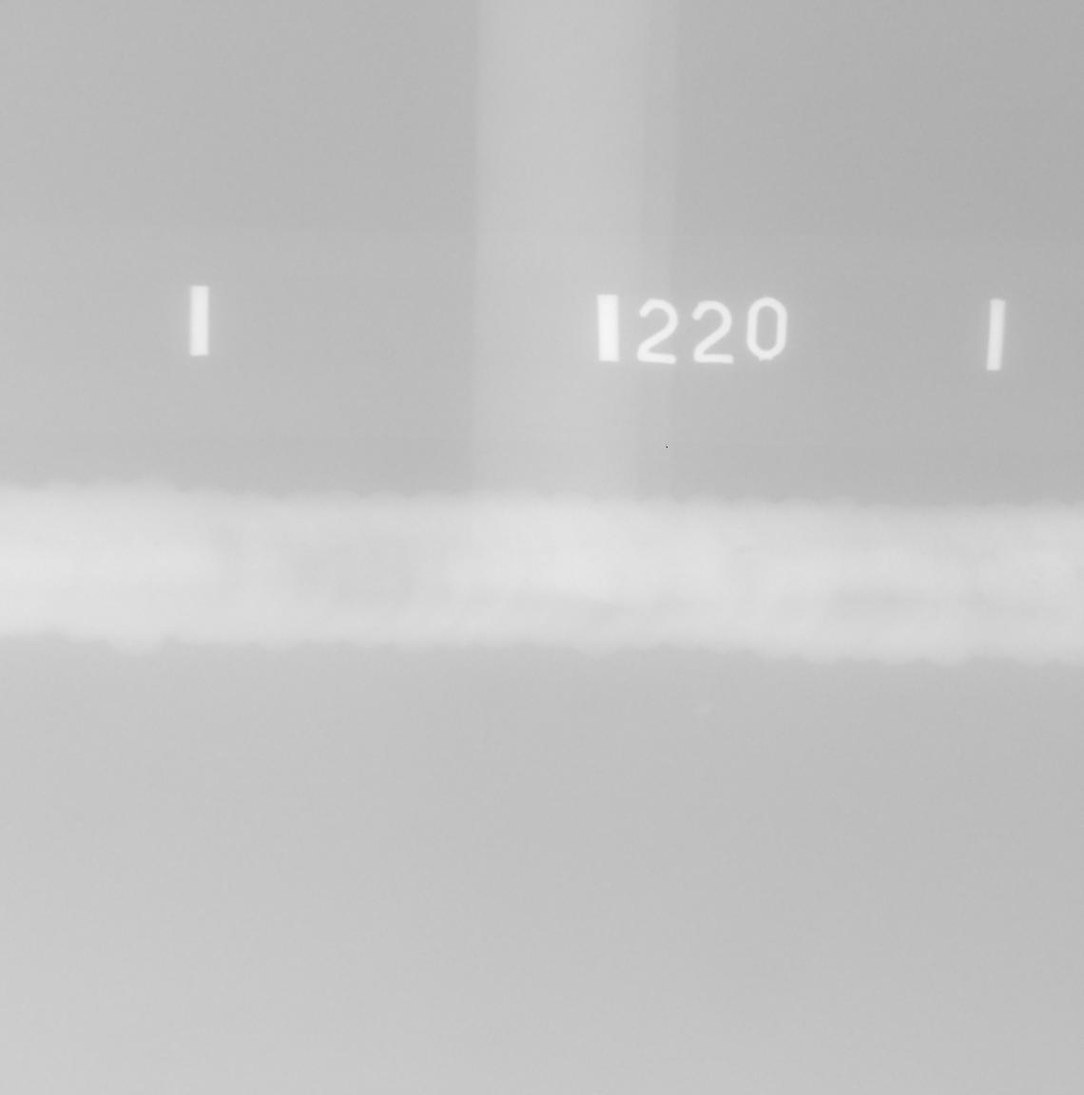Pore/Porosity: (736, 547, 751, 554), (154, 541, 161, 546), (978, 554, 985, 559), (301, 542, 306, 546), (863, 549, 867, 553), (1039, 574, 1043, 578), (1056, 566, 1060, 570), (229, 530, 232, 534), (1034, 581, 1037, 584)
